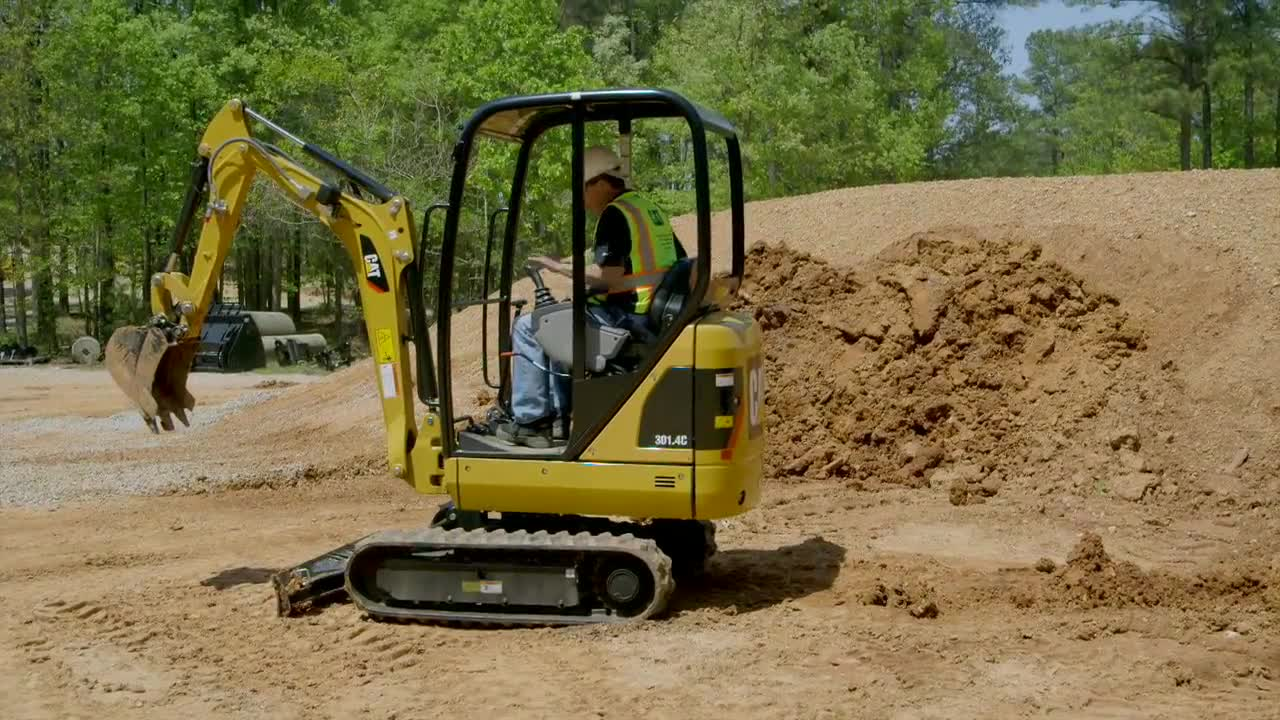attachment-bucket: (96, 323, 215, 436)
cabin: (423, 84, 768, 525)
forearm: (168, 102, 253, 331)
upperarm: (239, 141, 438, 482)
wheelbase: (341, 518, 724, 632)
